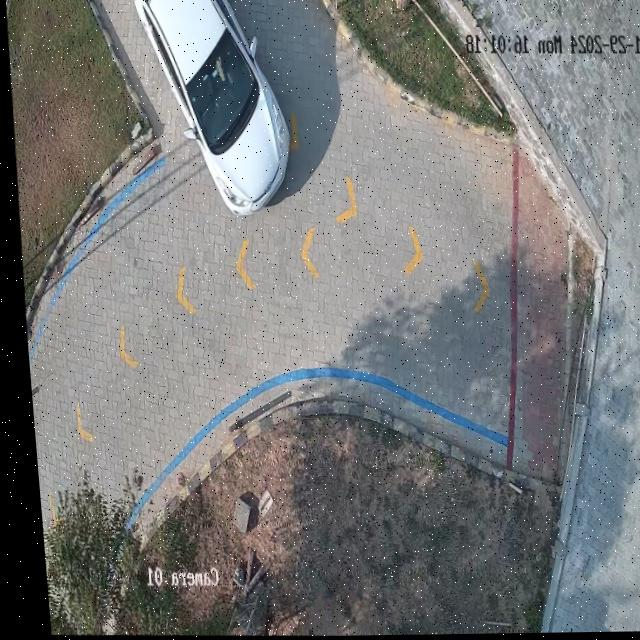car: (133, 0, 286, 217)
